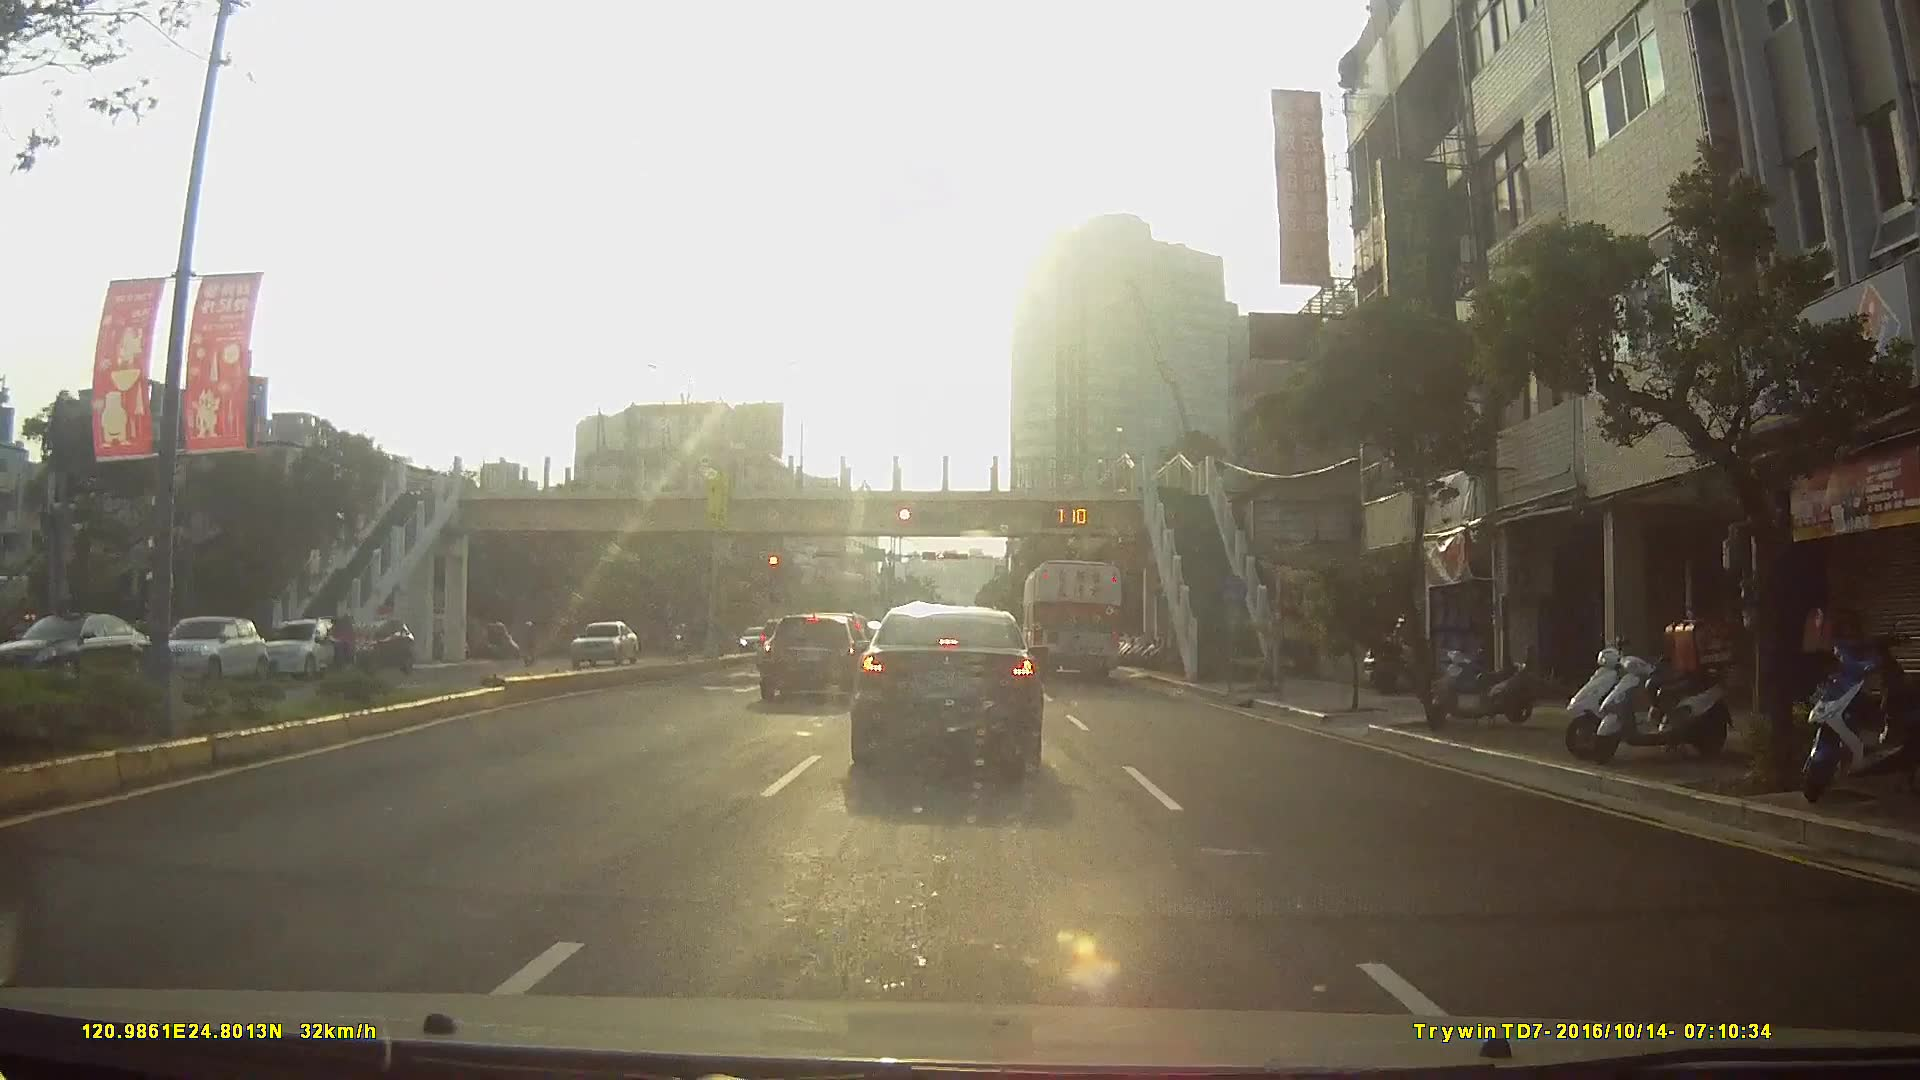rider: (306, 611, 365, 694)
vehicle: (845, 601, 1046, 771), (1019, 556, 1123, 682), (0, 610, 152, 688), (753, 611, 868, 703), (139, 615, 264, 686), (249, 616, 354, 677), (333, 616, 414, 677), (561, 619, 635, 669), (735, 625, 768, 654)
